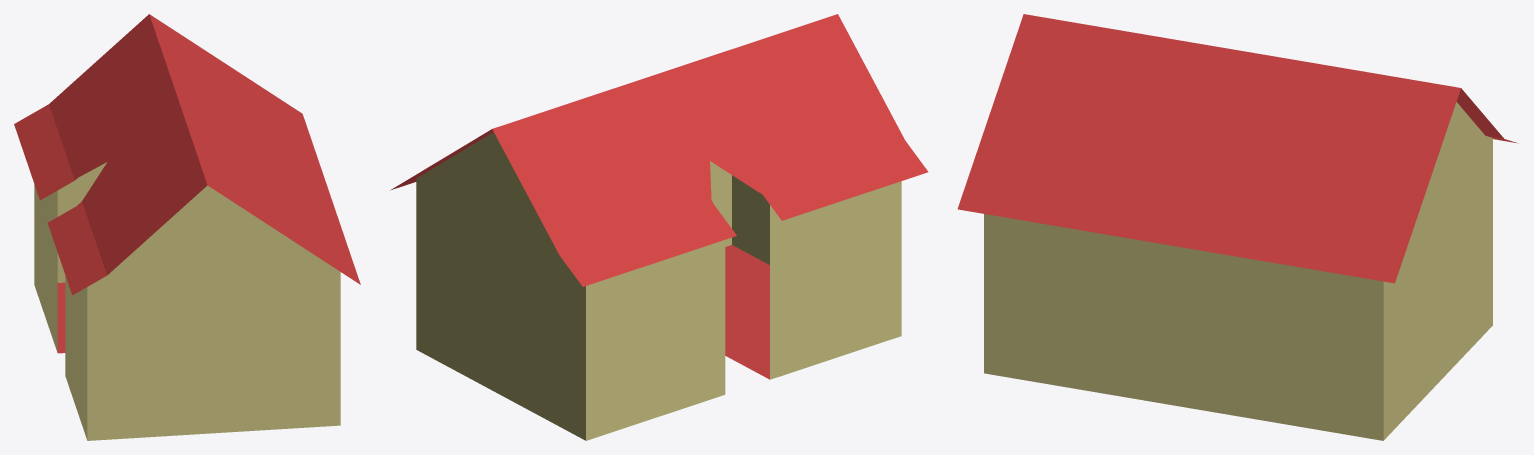
The picture shows the model from 3 angles, left to right: view 1: azimuth 30°, elevation 25°; view 2: azimuth 150°, elevation 25°; view 3: azimuth 270°, elevation 25°; orthographic projection. The views are drawn at different scales.
Bounding box in the file's own units: 23.71 × 27.4 × 15.83.
